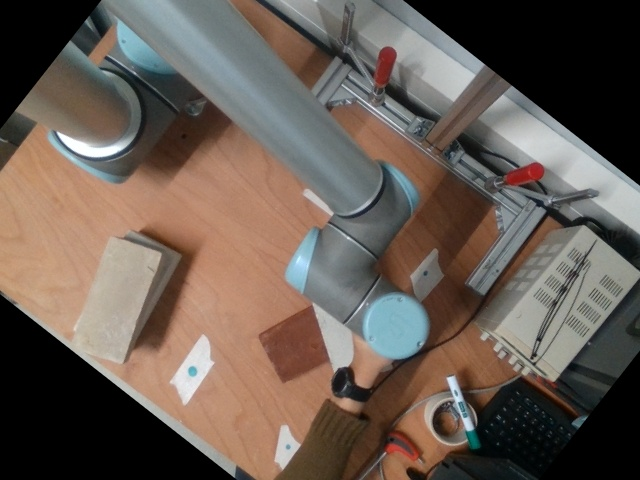brick: (72, 239, 157, 361)
